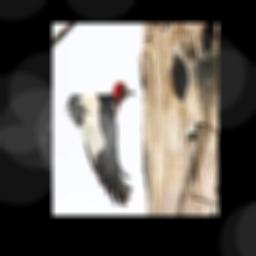Woodpecker: (63, 81, 134, 206)
